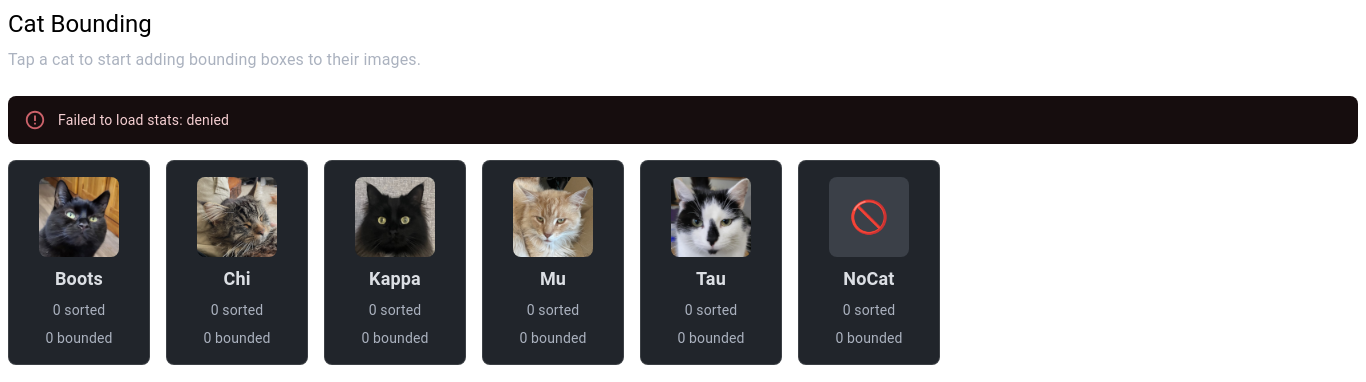
Test case: shows stats and record errors
The image size is (1366, 382).
Check: the text "Failed to load stats: denied" is shown, box top-left (58, 112), bottom-right (229, 128)
Click the text "Boots": (79, 279) top-left (55, 265), bottom-right (103, 292)
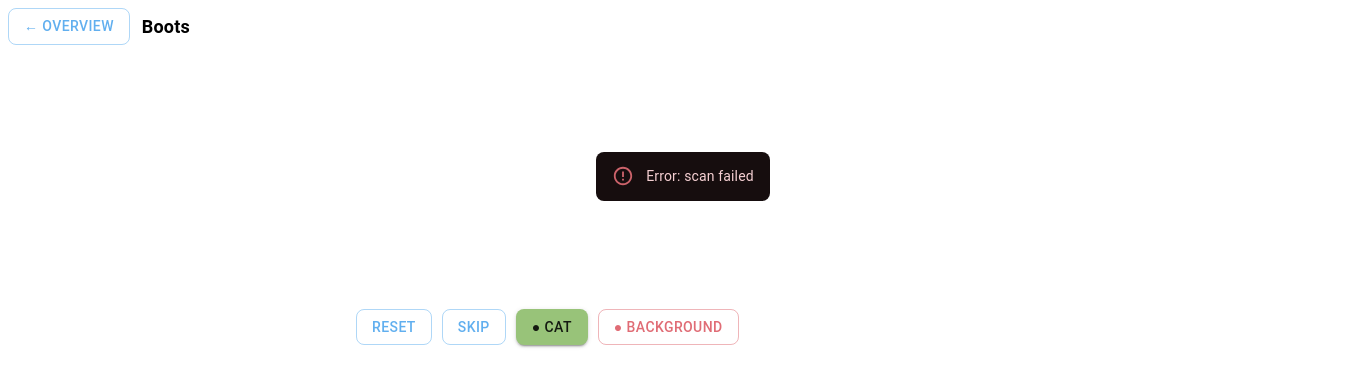
Check: the text "Error: scan failed" is shown, box top-left (646, 168), bottom-right (754, 184)
